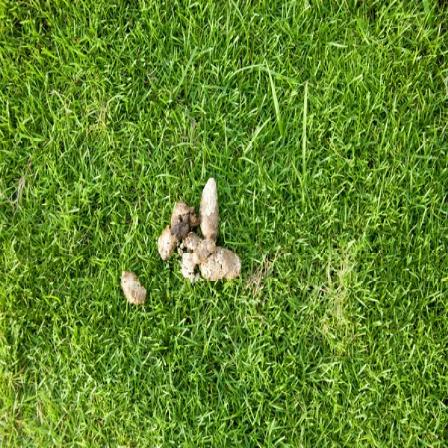dog-poop: (156, 174, 248, 288), (116, 264, 149, 312)
